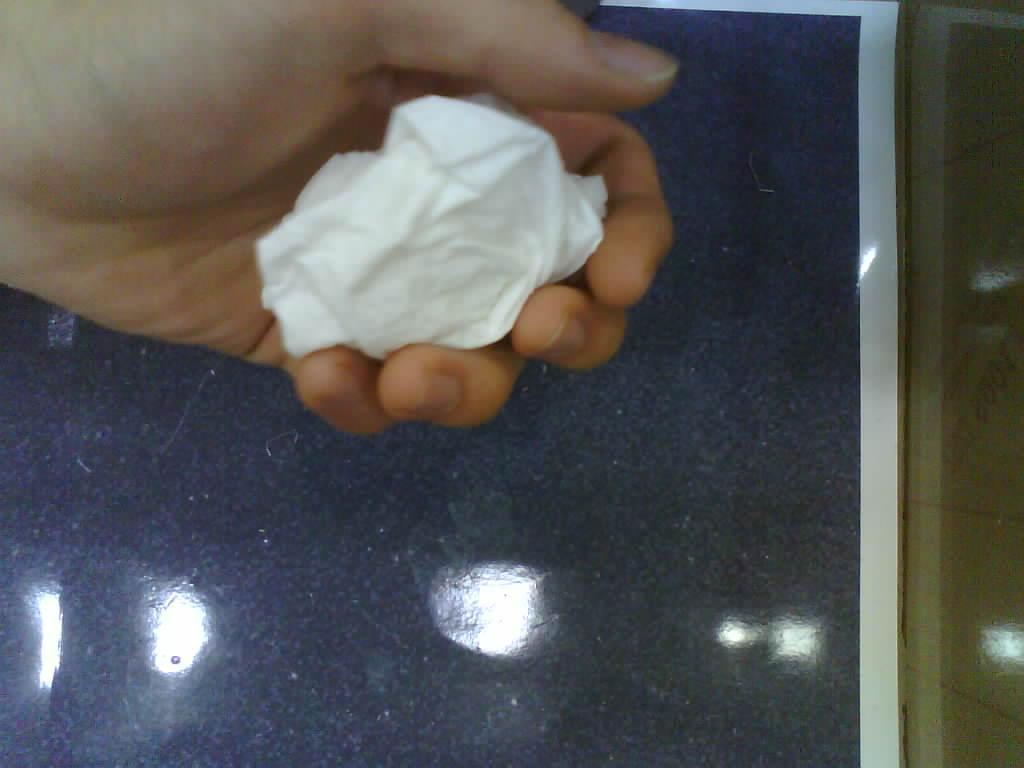paper: (258, 96, 606, 358)
